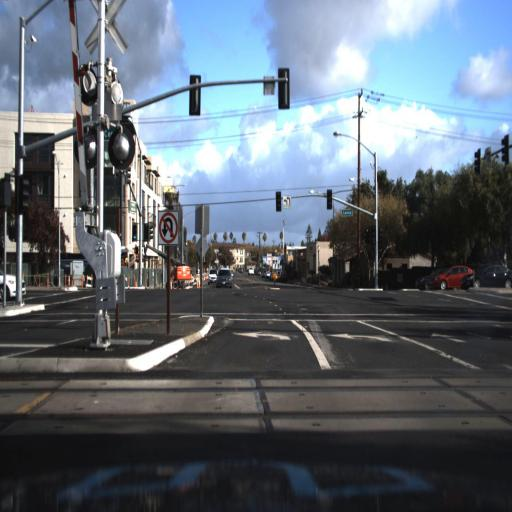car: (463, 260, 511, 288), (432, 266, 474, 288), (415, 266, 438, 290), (246, 258, 260, 278), (216, 268, 232, 285), (208, 266, 219, 290)
trafficLight-GreenLeft: (130, 220, 138, 243)
trafficLight-Red: (325, 181, 335, 214), (368, 222, 378, 250), (274, 186, 282, 213)
